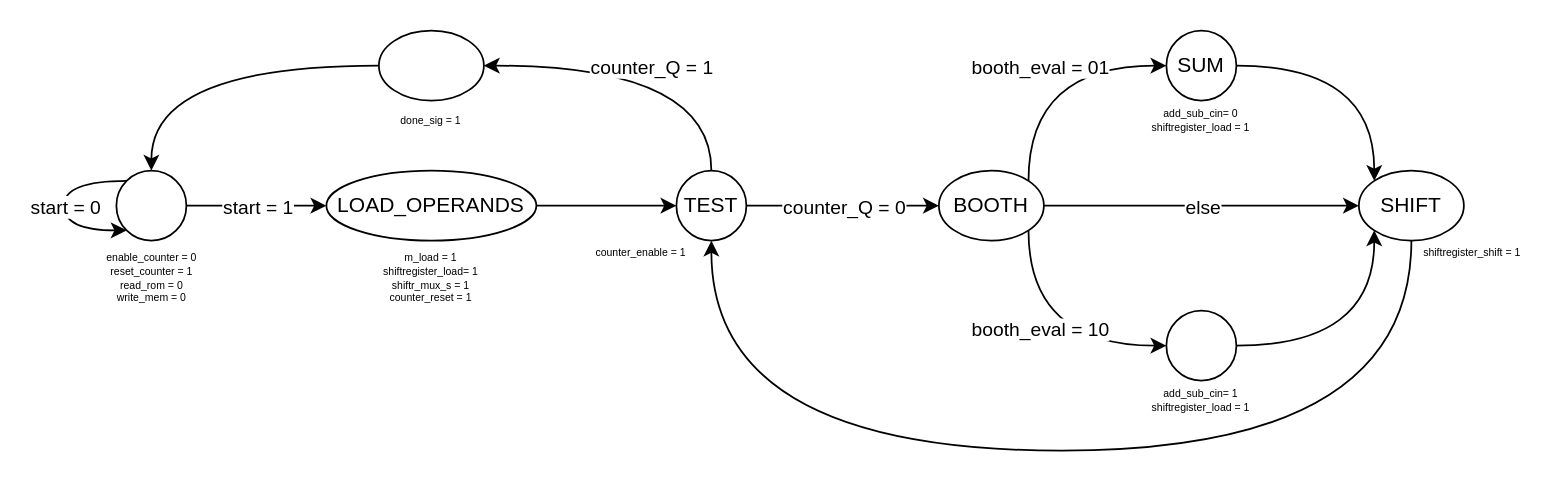
The diagram is 1565 pixels wide and 481 high, and some of its shapes have lost their labels. The box of each missing label's shape, as (x1, y1, x2, y2) in pixels:
DONE: (377, 29, 484, 101)
IDLE: (115, 169, 186, 241)
SUB: (1165, 309, 1236, 381)
